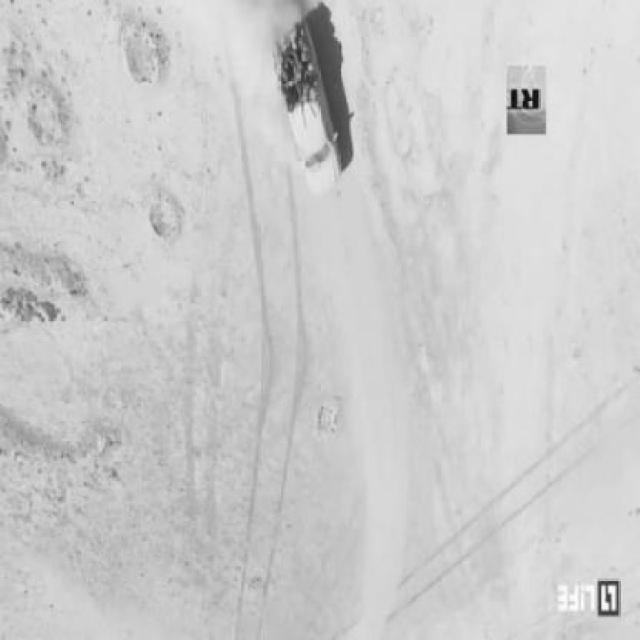Vehicle: (271, 21, 345, 203)
